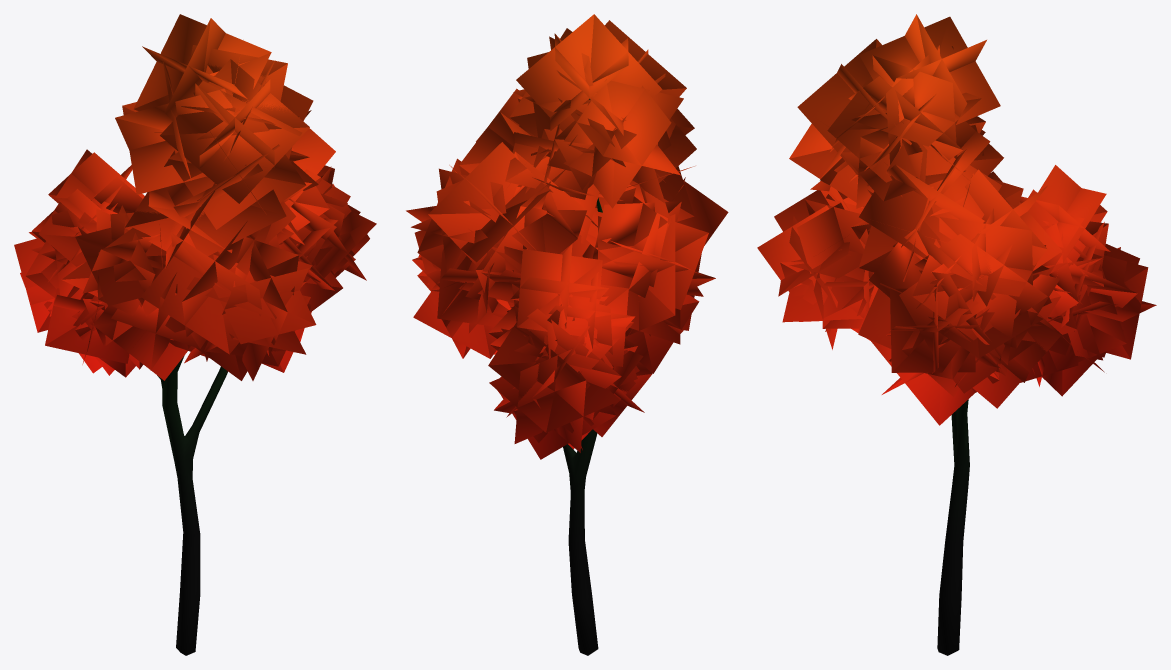
Rendered from TGV_Birch_Tree_06A.fbx.
3 renders of one model, left to right at view 1: azimuth 30°, elevation 25°; view 2: azimuth 150°, elevation 25°; view 3: azimuth 270°, elevation 25°, orthographic. The views are drawn at different scales.
Parts seen in each view (by area): view 1: TGV_Birch_Tree_06A_LOD0; view 2: TGV_Birch_Tree_06A_LOD0; view 3: TGV_Birch_Tree_06A_LOD0.
Part boxes in pixels (x1,y1,x2,y2): TGV_Birch_Tree_06A_LOD0: (14, 14, 376, 655); TGV_Birch_Tree_06A_LOD0: (406, 14, 728, 655); TGV_Birch_Tree_06A_LOD0: (757, 14, 1156, 655).
Size of the model in its own units: 290 by 618 by 346.
